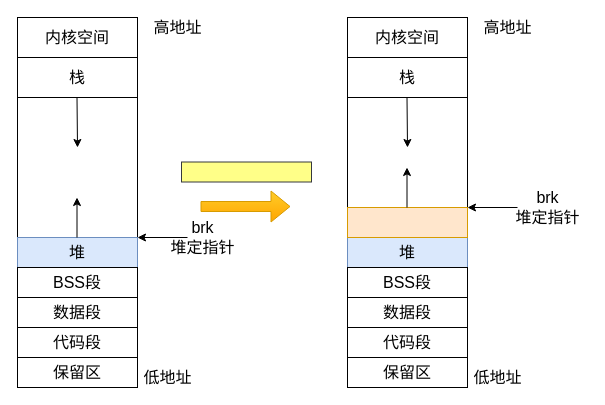
This 605x405 diagram has some shape labels left out. The shapes that lost their labels are listed below. From the top down, each one's box as (x1, y1, x2, y2) in pixels, then its label:
(180, 161, 312, 182): brk方式申请内存
(346, 206, 468, 238): 申请的内存
